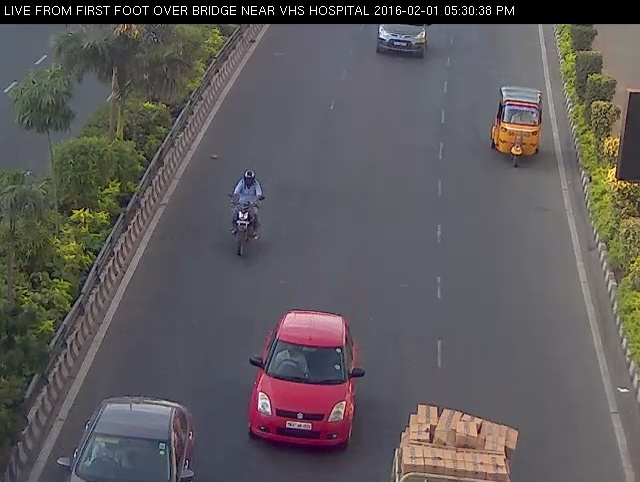Auto: (376, 385, 532, 482), (483, 76, 551, 179)
Car: (237, 303, 369, 461), (57, 392, 203, 482), (366, 17, 436, 64)
Person: (220, 153, 273, 270)
